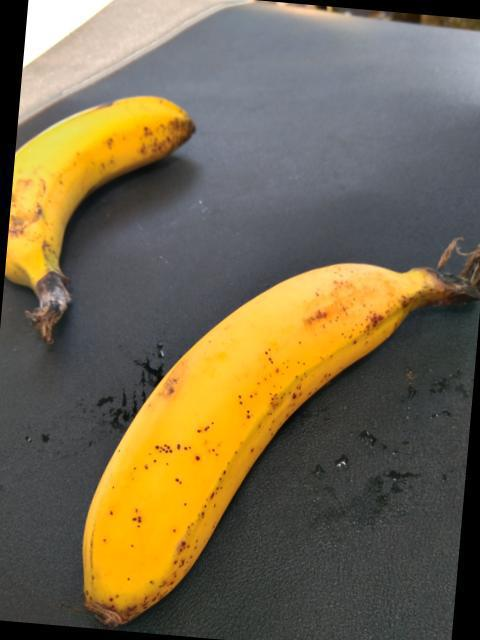ripe: (90, 250, 414, 639), (0, 76, 221, 333)
